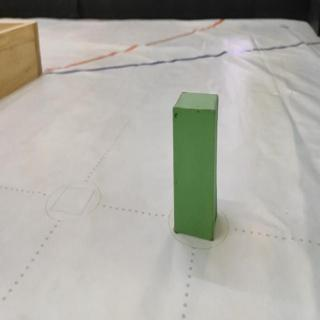greenbox: (171, 90, 223, 242)
